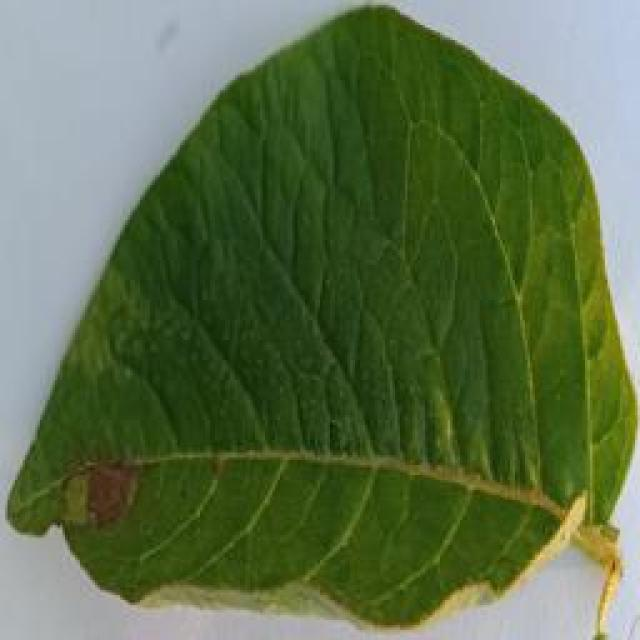Potato_Late_Blight: (2, 1, 634, 629)
